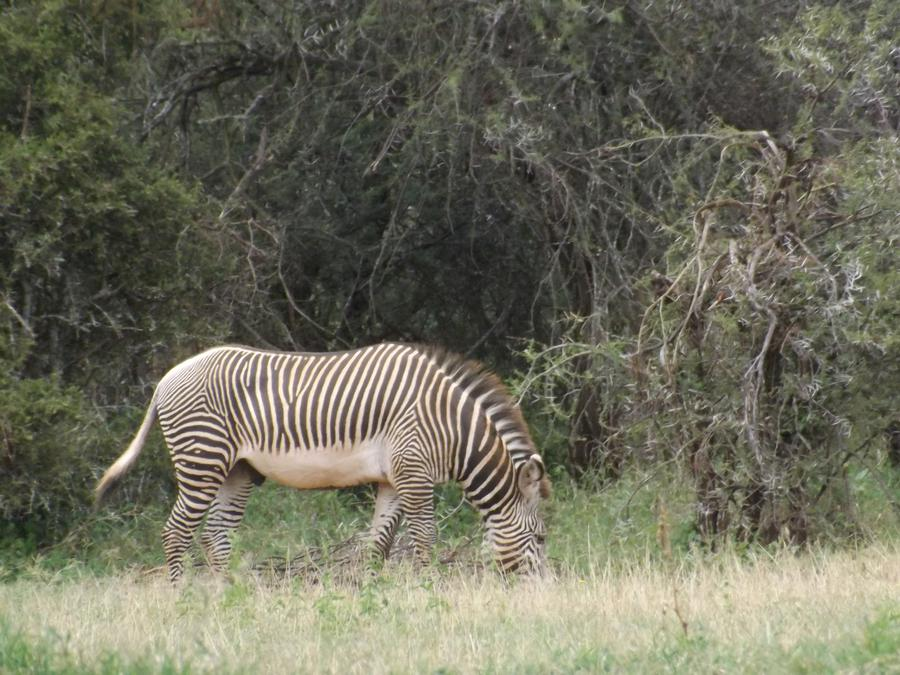zebra_grevys: (152, 332, 440, 483)
